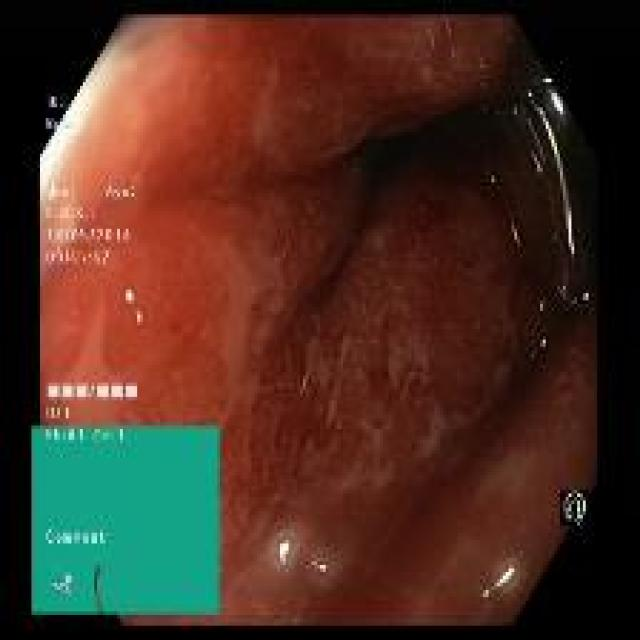ulcerative-colitis: (41, 17, 595, 623)
